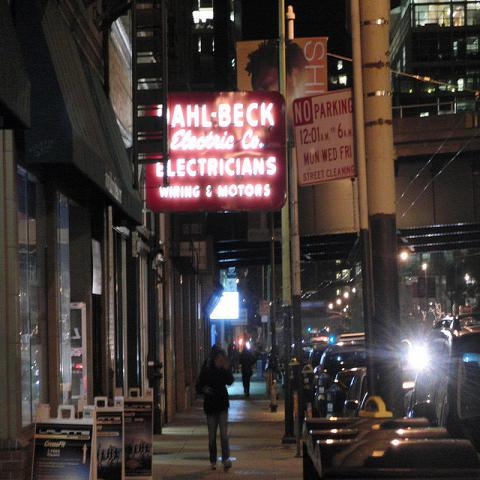car: (409, 314, 479, 453), (314, 343, 366, 416), (326, 366, 362, 415), (307, 341, 348, 370), (402, 338, 420, 397)
